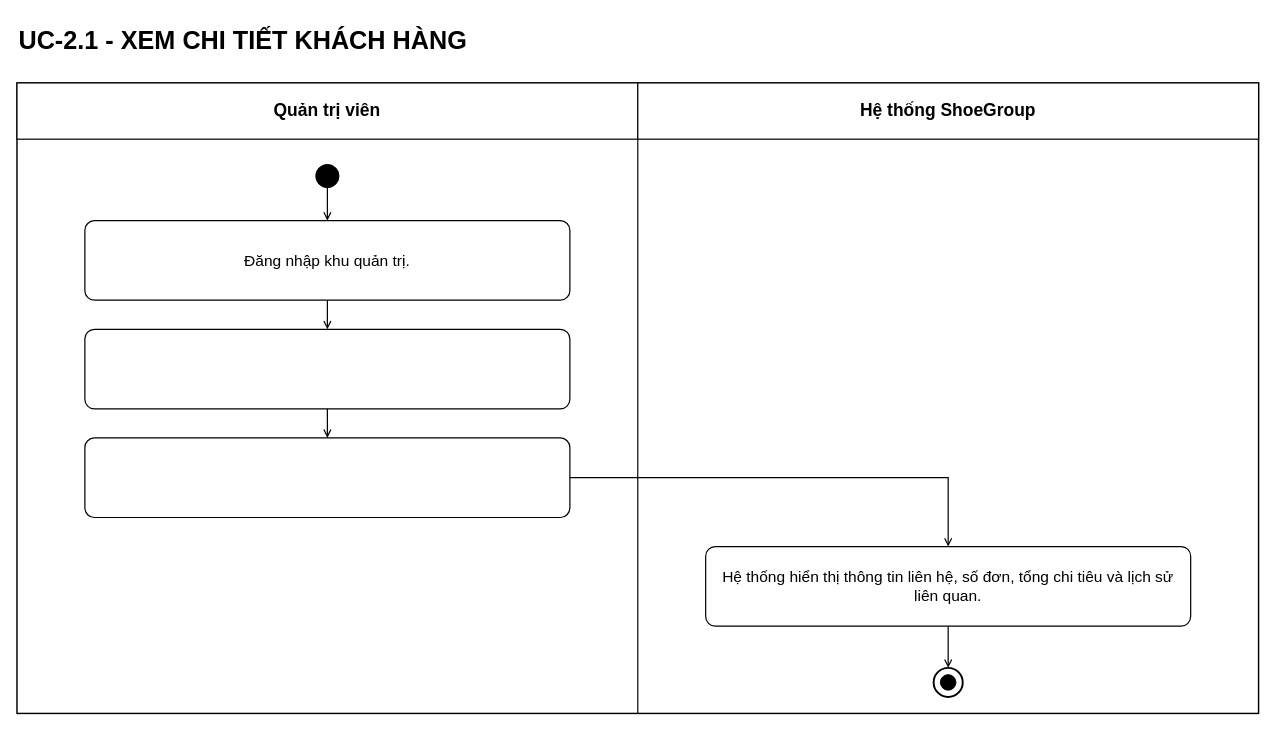
Image size: 1277x731. Some labels were removed from this diagram. The centre of each missing label's shape, as x and y in pixels:
Mở trang Khách hàng.: point (327, 368)
Tìm và chọn khách hàng.: point (327, 477)
